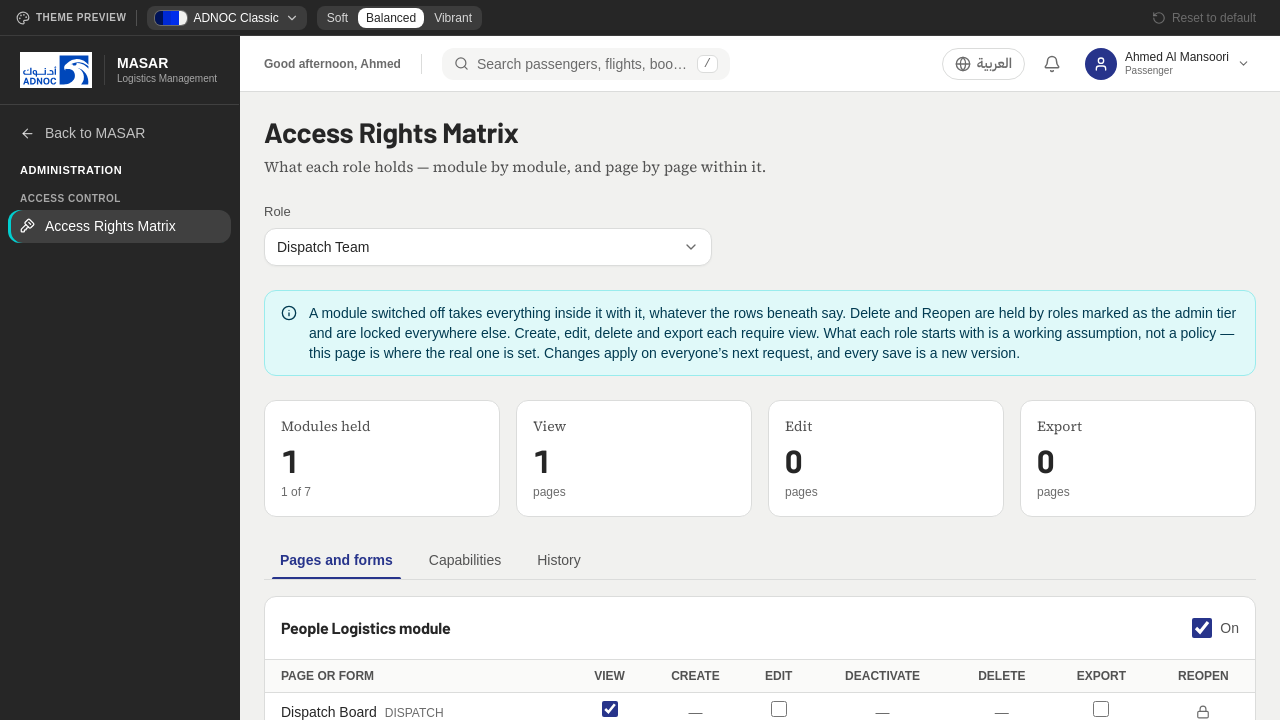
Test: BRD-D.2.1.3-MST the Access Rights Matrix page (spec 10 §2.3) › BRD-D.2.1.3-MST shows the role’s versions and what each changed
Click the tab "History" at (559, 560), box [521,541,597,579]
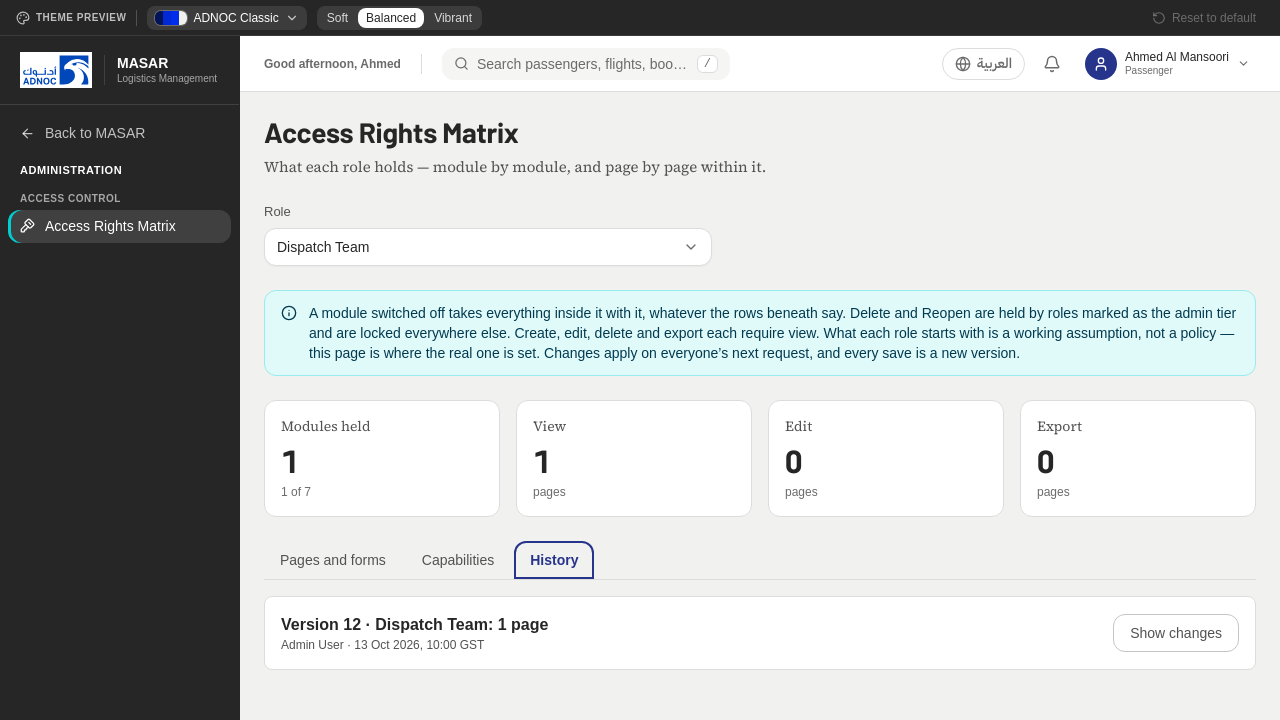
Check: the text "Version 12 · Dispatch Team: 1 page" is shown, box [281,613,548,637]
Click the button "Show changes" at (1176, 633), box [1113,614,1239,652]
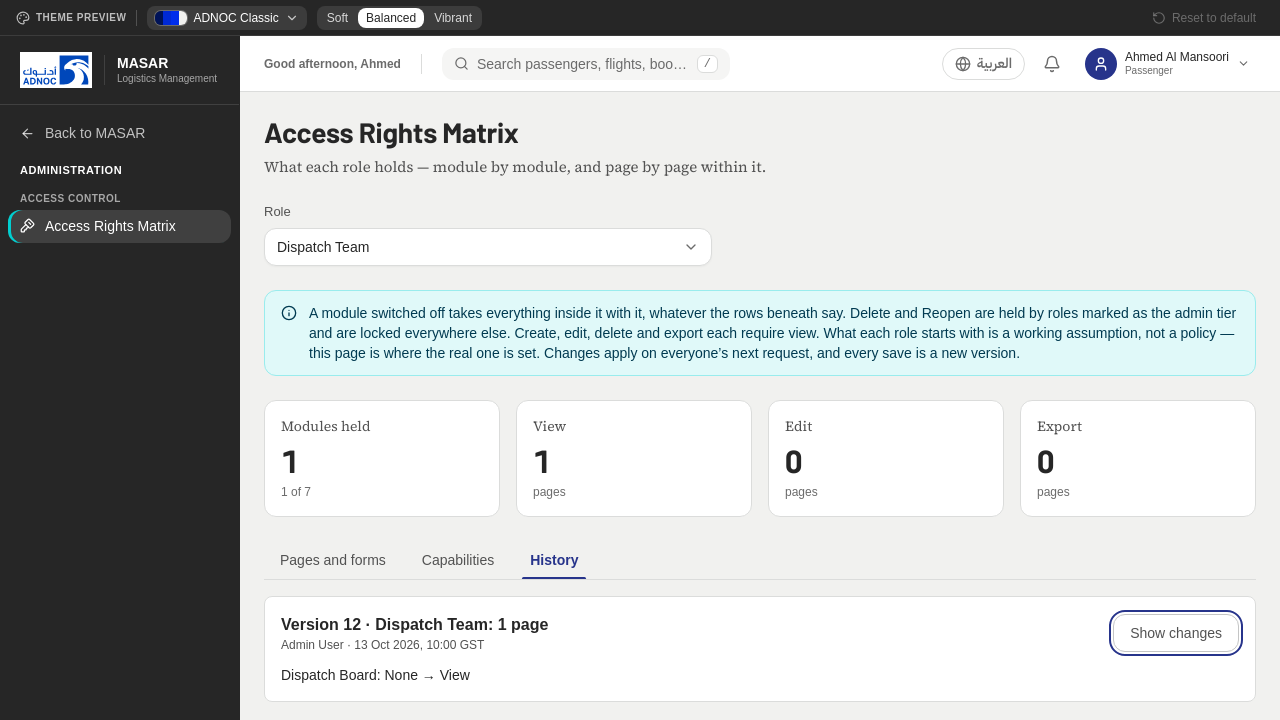
Check: the list item "Dispatch Board: None → View" is shown, box [281,667,470,683]
